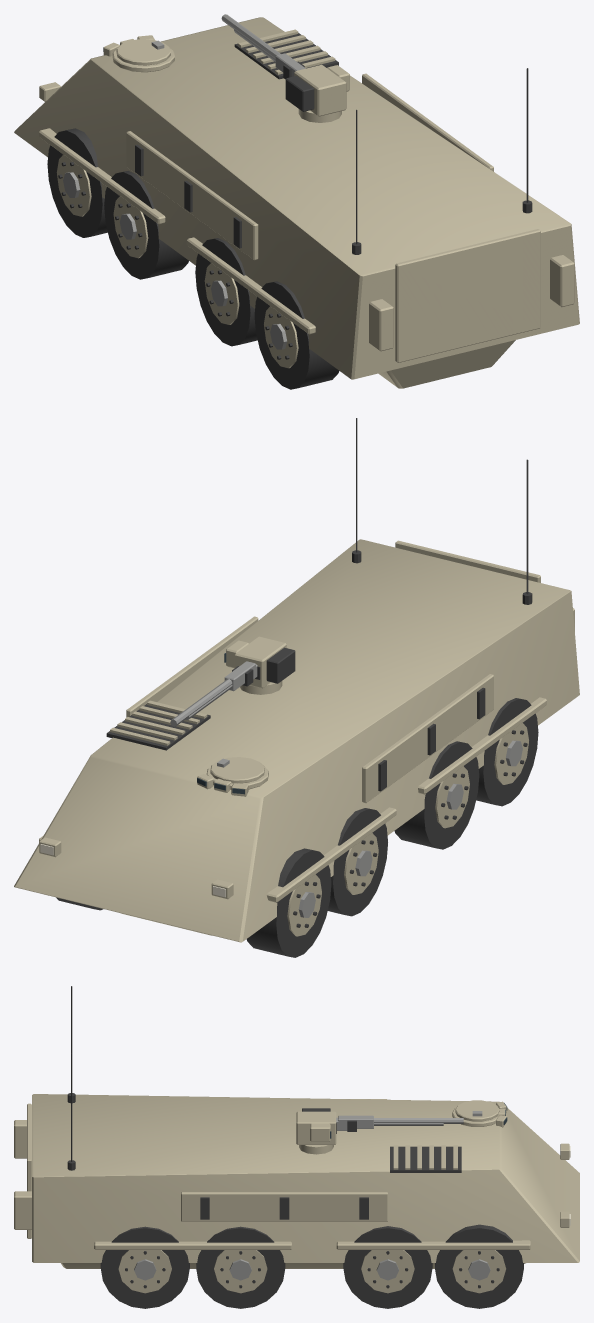
File: usa_apc_icv.glb
3 views of the same model, one above another, from view 1: azimuth 30°, elevation 25°; view 2: azimuth 150°, elevation 25°; view 3: azimuth 270°, elevation 25° (orthographic). The views are drawn at different scales.
Parts seen in each view (by area): view 1: body, wheel_2, wheel_6, wheel_0, wheel_4, turret, barrel; view 2: body, wheel_0, wheel_4, wheel_6, wheel_2, turret, barrel; view 3: body, wheel_1, wheel_3, wheel_5, wheel_7, turret, barrel.
Part boxes in pixels (x1,y1,x2,y2): body: [14, 17, 579, 388]; wheel_2: [104, 171, 188, 279]; wheel_6: [254, 281, 339, 389]; wheel_0: [47, 128, 107, 237]; wheel_4: [195, 238, 257, 346]; turret: [234, 29, 349, 122]; barrel: [221, 14, 305, 79]; body: [14, 418, 579, 942]; wheel_0: [246, 848, 331, 957]; wheel_4: [394, 741, 479, 849]; wheel_6: [476, 698, 538, 806]; wheel_2: [327, 808, 387, 916]; turret: [185, 636, 295, 719]; barrel: [170, 661, 255, 726]; body: [14, 986, 579, 1268]; wheel_1: [435, 1224, 523, 1308]; wheel_3: [343, 1226, 432, 1308]; wheel_5: [196, 1226, 285, 1308]; wheel_7: [100, 1226, 189, 1308]; turret: [296, 1108, 443, 1154]; barrel: [338, 1115, 463, 1131].
Bounding box in the file's own units: 2.88 × 3.38 × 7.11.
